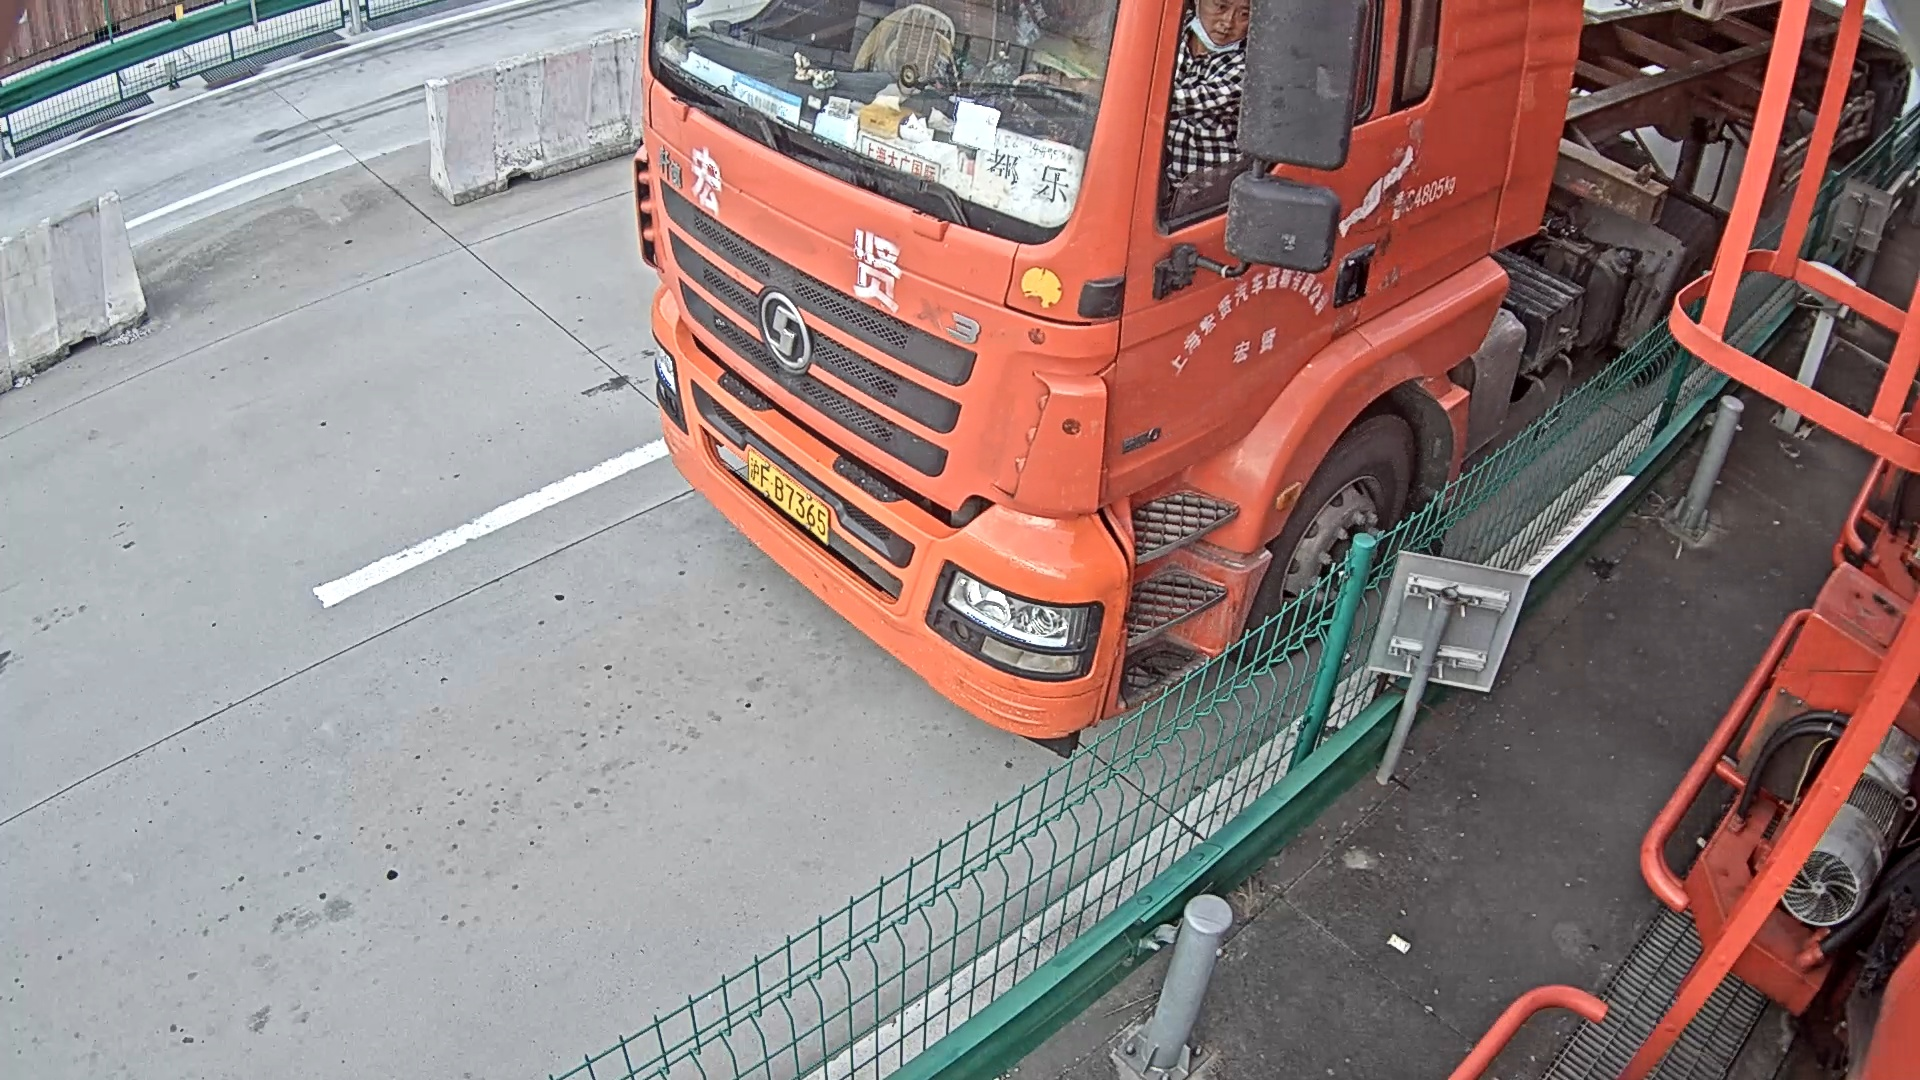head: (633, 1, 1585, 743)
plate: (750, 448, 826, 543)
